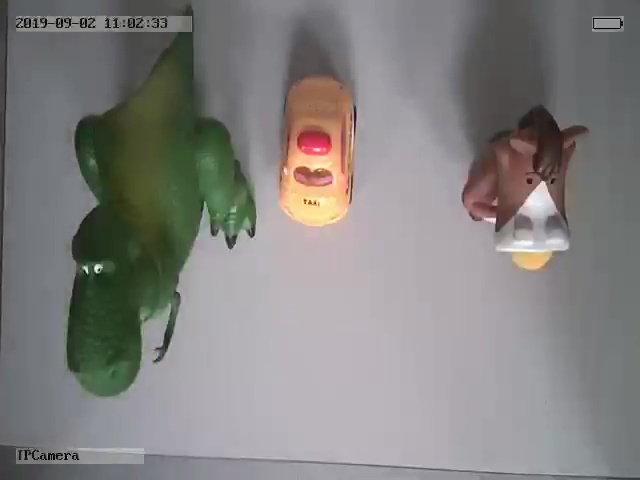car: (275, 72, 362, 228)
horse: (461, 102, 588, 275)
rex: (62, 30, 257, 396)
